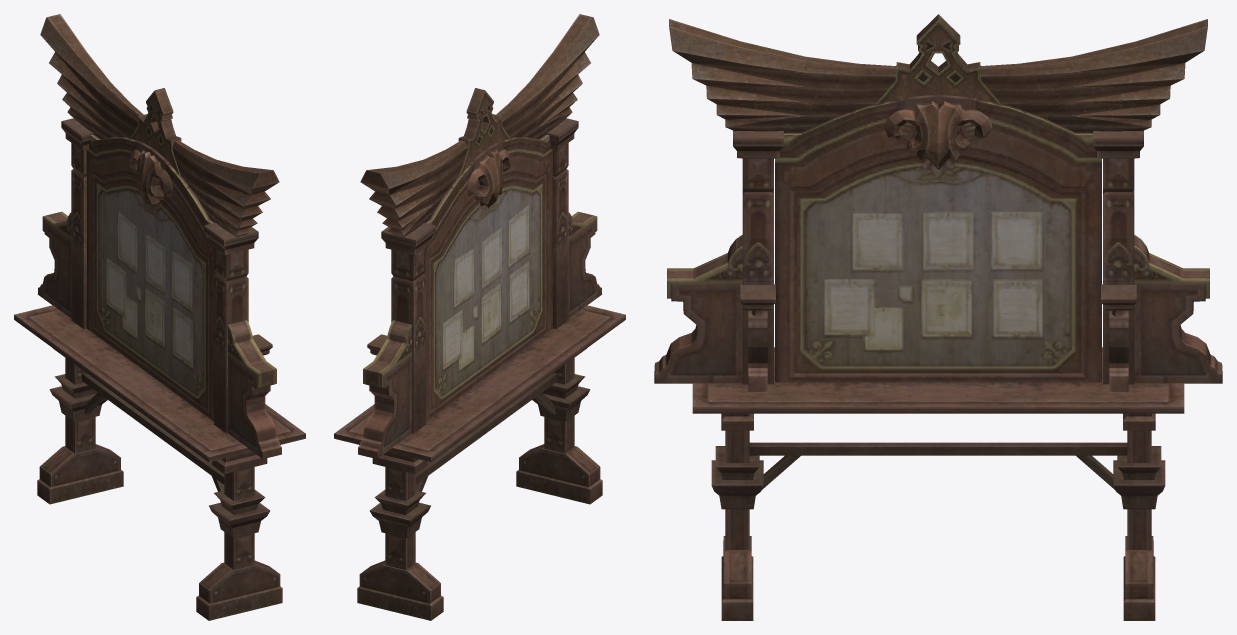
Rendered from bg_lut_lucastle_billboard02_sm_artree.FBX.
3 renders of one model, left to right at view 1: azimuth 30°, elevation 25°; view 2: azimuth 150°, elevation 25°; view 3: azimuth 270°, elevation 25°, orthographic. The views are drawn at different scales.
Visible parts, largest first — view 1: bg_lut_lucastle_billboard02_sm_artree; view 2: bg_lut_lucastle_billboard02_sm_artree; view 3: bg_lut_lucastle_billboard02_sm_artree.
Part boxes in pixels (<box>): bg_lut_lucastle_billboard02_sm_artree: <box>14,14,305,620</box>; bg_lut_lucastle_billboard02_sm_artree: <box>334,14,625,620</box>; bg_lut_lucastle_billboard02_sm_artree: <box>654,14,1222,620</box>.
Size of the model in its own units: 64.08 by 291 by 258.
